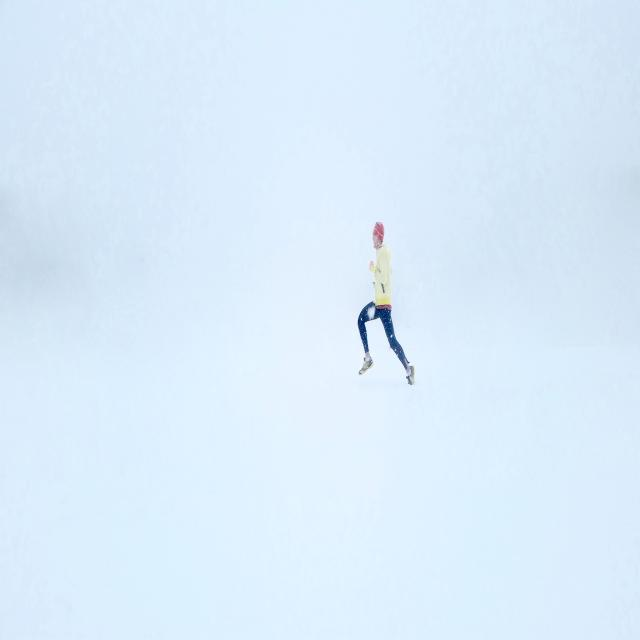running: (353, 217, 420, 389)
